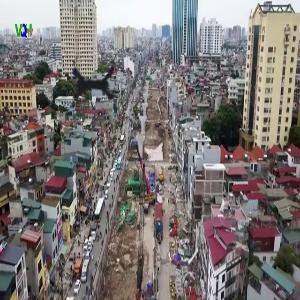drone: (37, 29, 147, 139)
